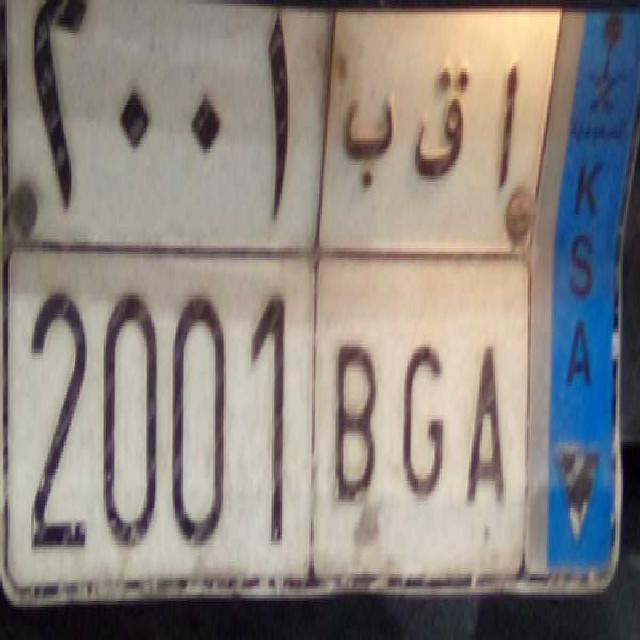license_plate: (7, 242, 525, 615)
